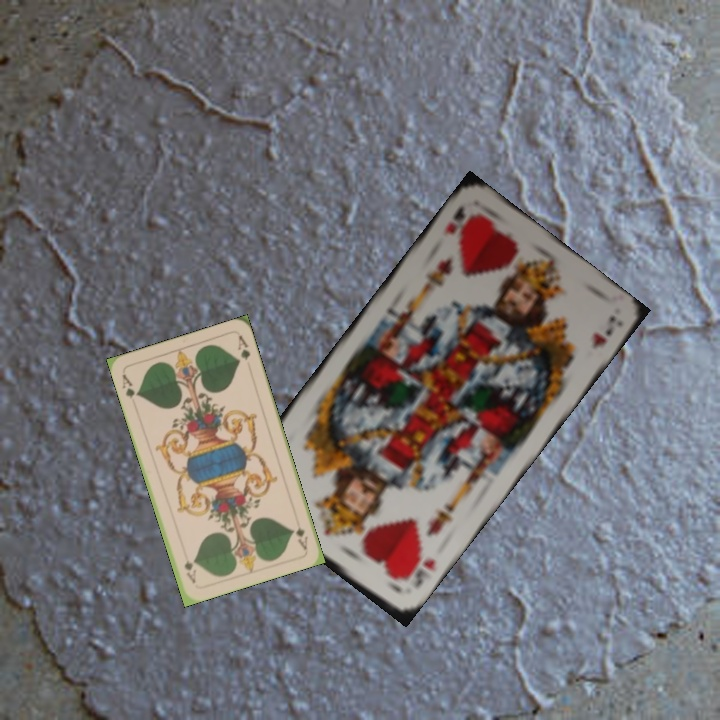GA: (291, 513, 310, 552), (118, 370, 141, 400)
HK: (396, 552, 439, 591), (439, 201, 468, 240)
